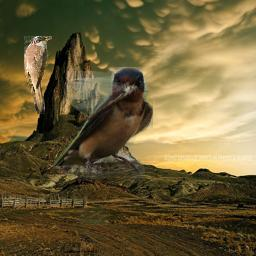Cuckoo: (24, 36, 52, 114)
Swallow: (53, 67, 153, 181)
